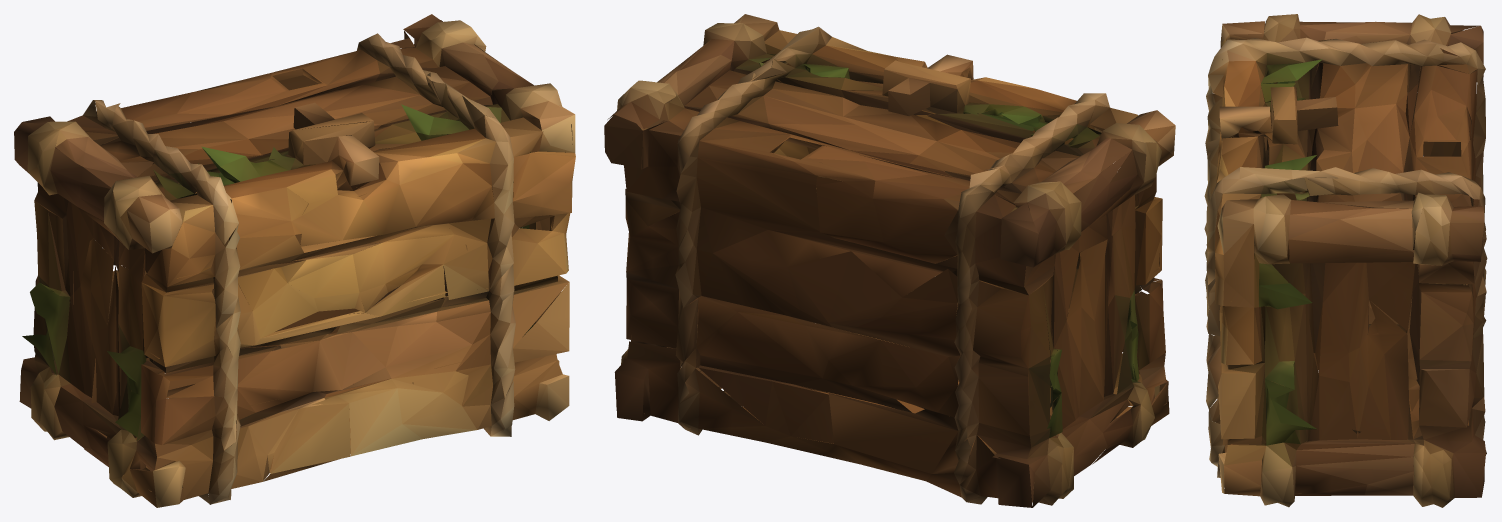
The model's file is building-chest.glb.
3 views of the same model, side by side, from view 1: azimuth 30°, elevation 25°; view 2: azimuth 150°, elevation 25°; view 3: azimuth 270°, elevation 25° (orthographic). The views are drawn at different scales.
Visible parts, largest first — view 1: 0_chest; view 2: 0_chest; view 3: 0_chest.
Part boxes in pixels (x1,y1,x2,y2): 0_chest: (14, 14, 575, 507); 0_chest: (604, 14, 1175, 507); 0_chest: (1204, 14, 1487, 507).
Bounding box in the file's own units: 1.59 × 1.13 × 0.9158.
